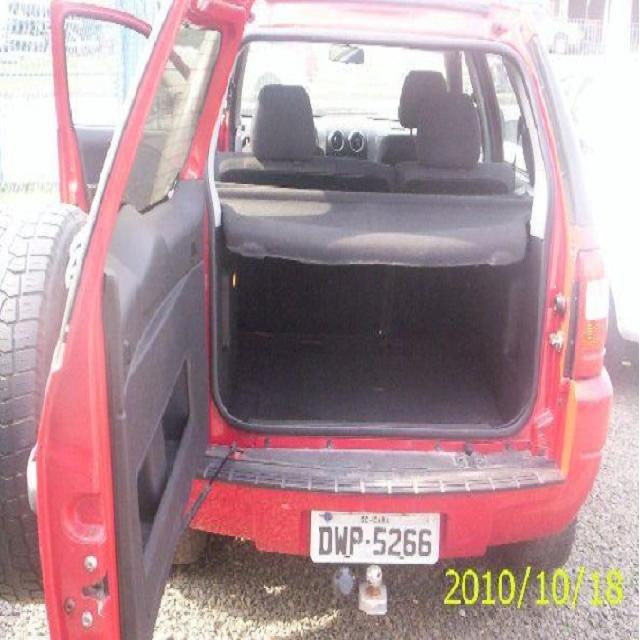Placa: (306, 505, 445, 567)
